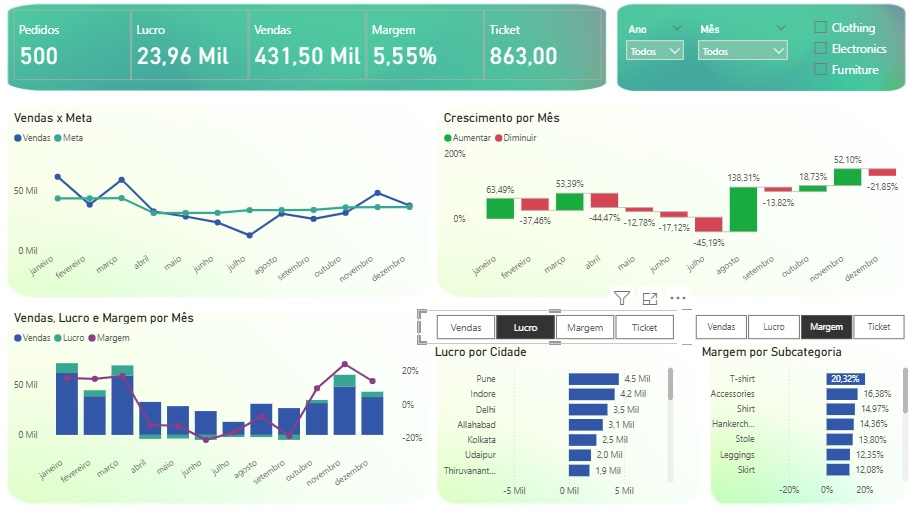

What the dashboard file says about the page in this screenshot:
{"tool":"powerbi","page":{"name":"Página 1","canvas":[1280,720],"ordinal":0},"visuals":[{"type":"cardVisual","fields":{"Data":["medidas.Pedidos","medidas.Lucro","medidas.Vendas","medidas.Margem","medidas.Ticket Medio"]},"box":[24.8,15.1,823.1,107.4],"z":0},{"type":"slicer","fields":{"Values":["calendario.Ano"]},"box":[863,34.4,99.1,86.7],"z":1000},{"type":"slicer","fields":{"Values":["calendario.Nome Mes"]},"box":[962.1,34.4,143.1,158.3],"z":2000},{"type":"slicer","fields":{"Values":["metas.category"]},"box":[1119,24.8,129.4,106],"z":3000},{"type":"lineChart","title":"Vendas x Meta","fields":{"Category":["calendario.Data.Variation.Hierarquia de datas.Ano","calendario.Data.Variation.Hierarquia de datas.Mês"],"Y":["medidas.Vendas","Sum(metas.target)"]},"box":[24.8,158.3,572.6,260.1],"z":4000},{"type":"lineStackedColumnComboChart","fields":{"Category":["calendario.Data.Variation.Hierarquia de datas.Ano","calendario.Data.Variation.Hierarquia de datas.Mês"],"Y":["medidas.Vendas","medidas.Lucro"],"Y2":["medidas.Margem"]},"box":[24.8,433.5,572.6,265.6],"z":5000},{"type":"waterfallChart","fields":{"Category":["calendario.Ano Mes.Variation.Hierarquia de datas.Mês"],"Y":["medidas.Crescimento"]},"box":[616.6,158.3,652.4,260.1],"z":6000},{"type":"clusteredBarChart","fields":{"Y":["medidas.Vendas"],"Category":["clientes.city"]},"box":[604.2,480.3,338.6,220.2],"z":7000},{"type":"slicer","fields":{"Values":["Selecao Cidade.Selecao Cidade"]},"box":[586.3,433.5,375.7,46.8],"z":8000},{"type":"clusteredBarChart","fields":{"Y":["medidas.Vendas"],"Category":["vendas.subcategory"]},"box":[971.7,480.3,294.5,218.8],"z":9000},{"type":"slicer","fields":{"Values":["Selecao Subcategoria.Selecao Subcategoria"]},"box":[942.8,433.5,337.2,46.8],"z":10000}]}

Visuals, with their boxes in screenshot pixels (x1, y1, x2, y2), scaled from the page's 1280x720 canvas onto the 913x515 screenshot:
cardVisual - medidas.Pedidos x medidas.Lucro: bbox=[18, 11, 605, 88]
slicer - calendario.Ano: bbox=[616, 25, 686, 87]
slicer - calendario.Nome Mes: bbox=[686, 25, 788, 138]
slicer - metas.category: bbox=[798, 18, 890, 94]
"Vendas x Meta" lineChart: bbox=[18, 113, 426, 299]
lineStackedColumnComboChart - calendario.Data.Variation.Hierarquia de datas.Ano x calendario.Data.Variation.Hierarquia de datas.Mês: bbox=[18, 310, 426, 500]
waterfallChart - calendario.Ano Mes.Variation.Hierarquia de datas.Mês x medidas.Crescimento: bbox=[440, 113, 905, 299]
clusteredBarChart - medidas.Vendas x clientes.city: bbox=[431, 344, 672, 501]
slicer - Selecao Cidade.Selecao Cidade: bbox=[418, 310, 686, 344]
clusteredBarChart - medidas.Vendas x vendas.subcategory: bbox=[693, 344, 903, 500]
slicer - Selecao Subcategoria.Selecao Subcategoria: bbox=[672, 310, 912, 344]
